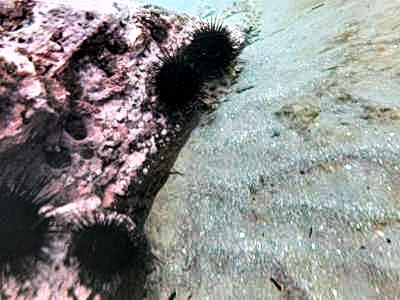urchin: (66, 208, 137, 288), (3, 170, 51, 282), (148, 44, 201, 111), (186, 14, 240, 78)
